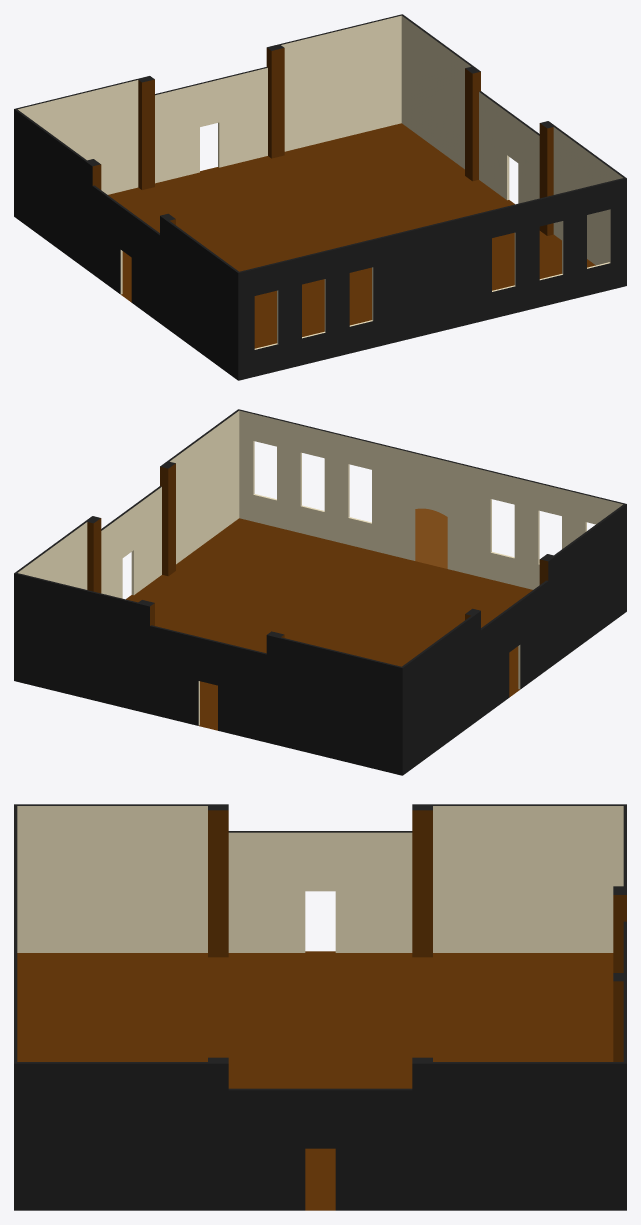
File: PE_3x3_LOBBY.obj
3 renders of one model, top to bottom at view 1: azimuth 30°, elevation 25°; view 2: azimuth 150°, elevation 25°; view 3: azimuth 270°, elevation 25°, orthographic. The views are drawn at different scales.
Visible parts, largest first — view 1: PE_3x3_LOBBY.001; view 2: PE_3x3_LOBBY.001; view 3: PE_3x3_LOBBY.001.
Part boxes in pixels (x1,y1,x2,y2): PE_3x3_LOBBY.001: (14,14,626,380); PE_3x3_LOBBY.001: (14,409,626,775); PE_3x3_LOBBY.001: (14,804,626,1210).
Size of the model in its own units: 72 by 19.06 by 72.
